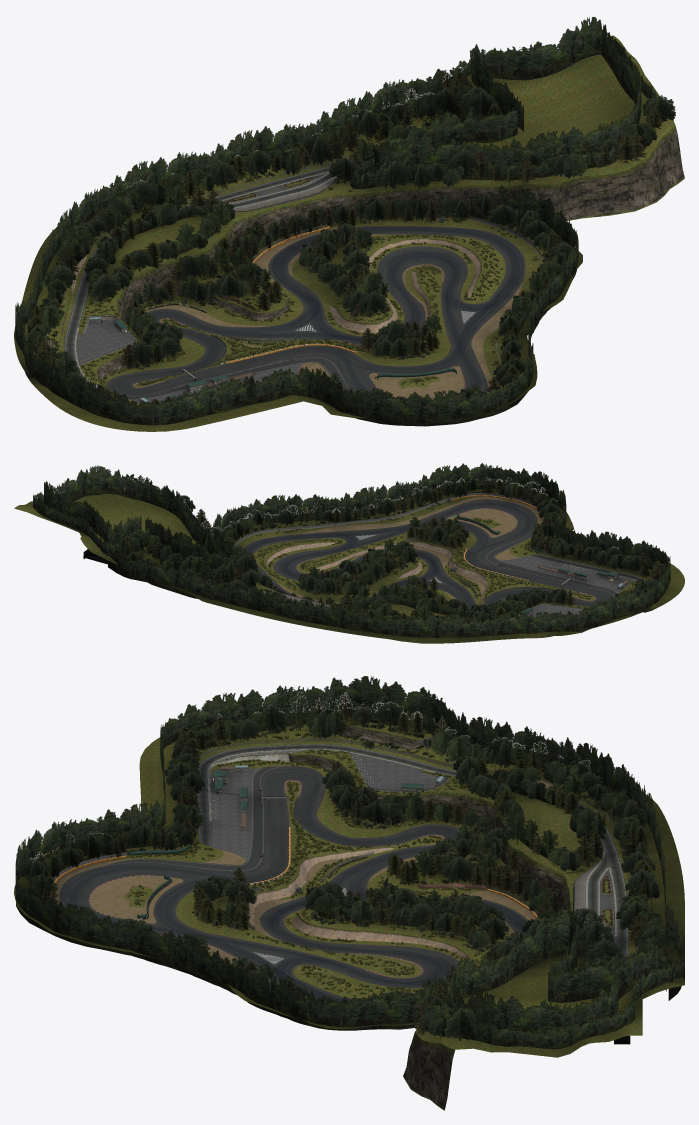
The model's file is cougar_circuit_drift_track.glb.
3 renders of one model, top to bottom at view 1: azimuth 30°, elevation 25°; view 2: azimuth 150°, elevation 25°; view 3: azimuth 270°, elevation 25°, orthographic. The views are drawn at different scales.
Visible parts, largest first — view 1: cougarct17_DFF, cougarct09_DFF.grass, cougarct11_DFF, cougarct09_DFF, cougarct10_DFF, cougarct13_DFF.skid, cougarct08_DFF, cougarct11_DFF.sand, cougarct00_DFF, cougarct13_DFF, cougarct01_DFF, cougarct06_DFF (+1 smaller); view 2: cougarct17_DFF, cougarct09_DFF.grass, cougarct10_DFF, cougarct13_DFF.skid, cougarct11_DFF.sand, cougarct08_DFF, cougarct11_DFF, cougarct09_DFF, cougarct14_DFF, cougarct12_DFF, cougarct00_DFF, cougarct06_DFF (+1 smaller); view 3: cougarct17_DFF, cougarct09_DFF.grass, cougarct10_DFF, cougarct09_DFF, cougarct13_DFF.skid, cougarct11_DFF, cougarct08_DFF, cougarct11_DFF.sand, cougarct00_DFF, cougarct14_DFF, cougarct13_DFF, cougarct01_DFF.
Boxes of the visible parts, x1,y1,x2,y2 form: cougarct17_DFF: (15,17,675,426); cougarct09_DFF.grass: (14,35,674,431); cougarct11_DFF: (251,87,684,302); cougarct09_DFF: (14,187,338,366); cougarct10_DFF: (25,311,488,405); cougarct13_DFF.skid: (112,226,522,392); cougarct08_DFF: (388,264,526,383); cougarct11_DFF.sand: (144,226,523,399); cougarct00_DFF: (218,318,456,379); cougarct13_DFF: (60,182,288,362); cougarct01_DFF: (89,238,289,340); cougarct06_DFF: (171,358,292,393); cougarct17_DFF: (33,463,670,638); cougarct09_DFF.grass: (14,481,684,643); cougarct10_DFF: (406,499,647,612); cougarct13_DFF.skid: (245,502,609,608); cougarct11_DFF.sand: (279,496,543,614); cougarct08_DFF: (269,503,463,562); cougarct11_DFF: (83,537,354,606); cougarct09_DFF: (304,572,588,632); cougarct14_DFF: (414,492,649,592); cougarct12_DFF: (257,493,473,540); cougarct00_DFF: (414,495,544,592); cougarct06_DFF: (499,564,588,588); cougarct17_DFF: (15,676,682,1049); cougarct09_DFF.grass: (14,710,684,1057); cougarct10_DFF: (58,710,351,932); cougarct09_DFF: (351,726,627,925); cougarct13_DFF.skid: (64,769,526,1002); cougarct11_DFF: (351,896,630,1110); cougarct08_DFF: (99,924,351,1003); cougarct11_DFF.sand: (49,839,544,998); cougarct00_DFF: (50,823,351,919); cougarct14_DFF: (50,737,351,898); cougarct13_DFF: (351,740,629,914); cougarct01_DFF: (351,776,543,923).
Bounding box in the file's own units: 676 × 115 × 480.
100 materials, 100 textured.
